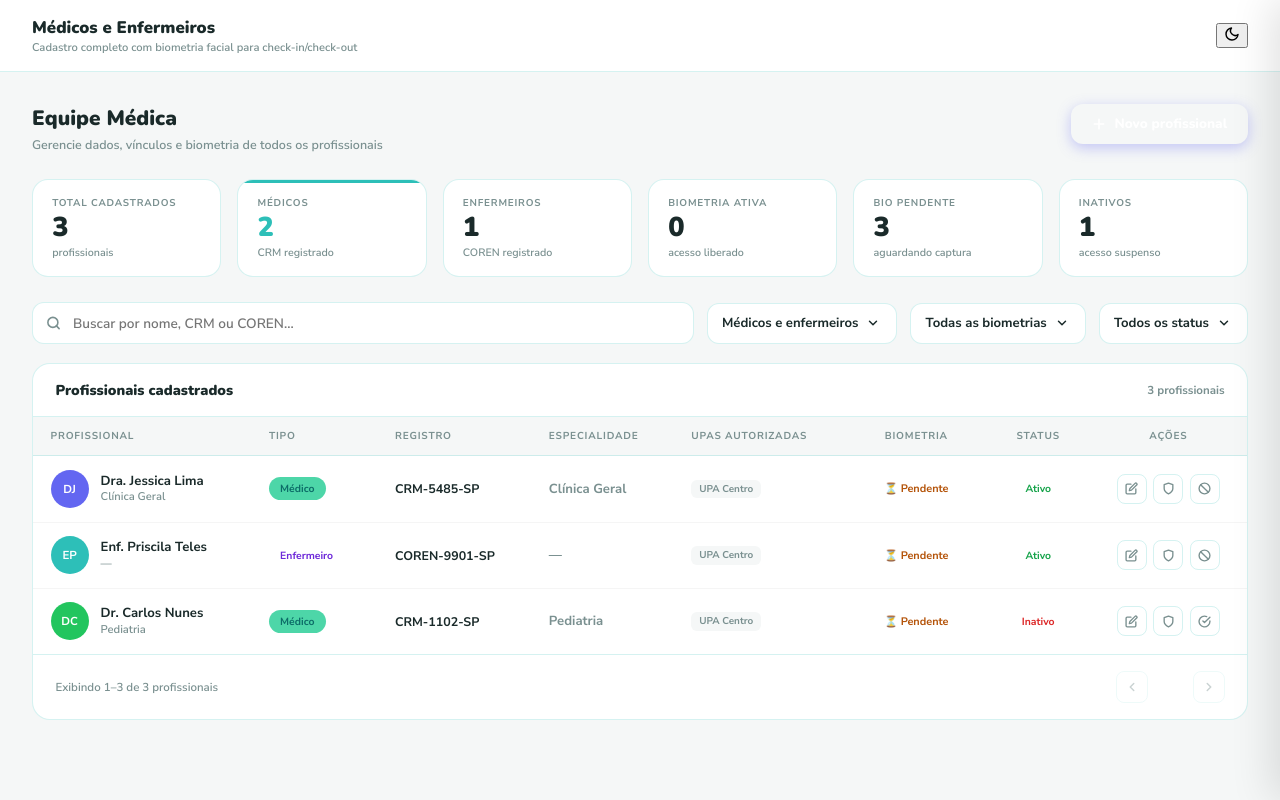
Test: <AdminMedicos /> › busca por nome funciona
Expected: the text "Dra. Jessica Lima" is shown, [101,474,204,489]
In the field with placeholder "Buscar por nome, CRM ou COREN...": (363, 323) [32,302,694,344], type "Jessica"
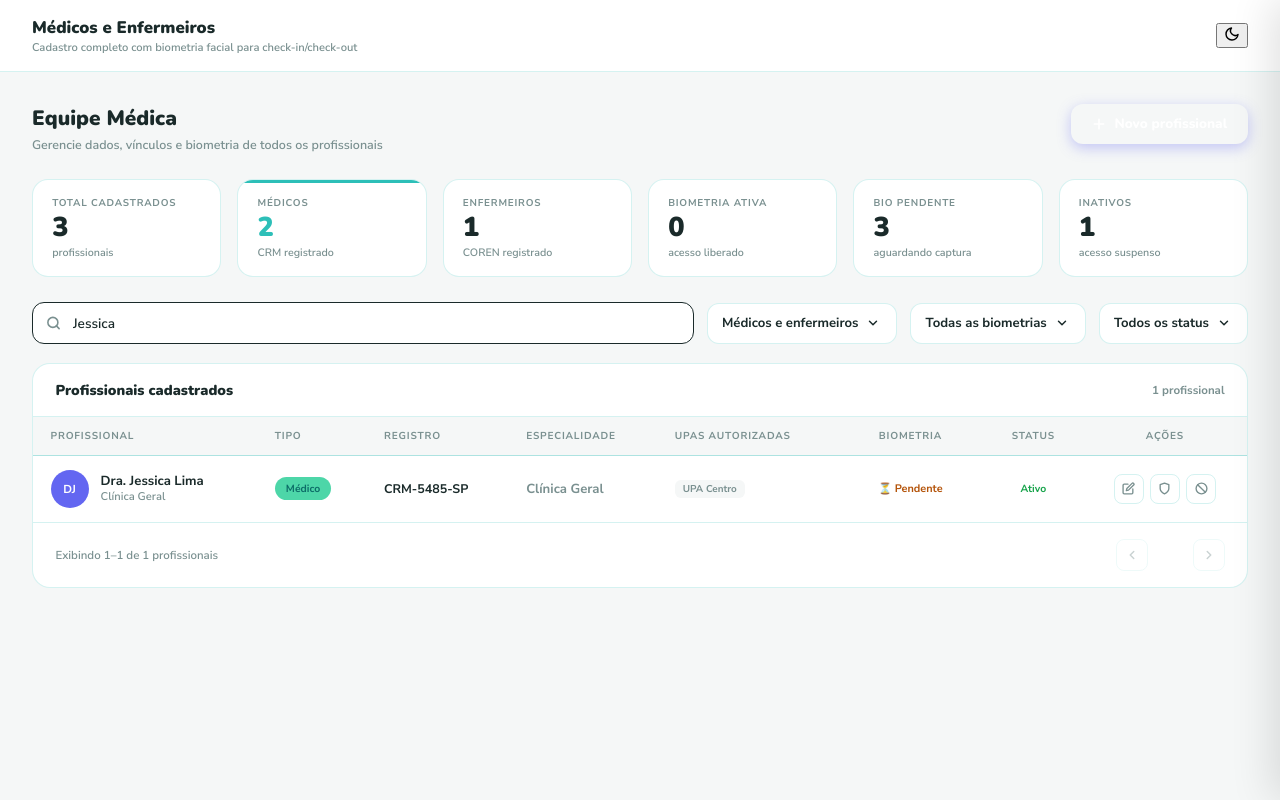
Expected: the text "Dra. Jessica Lima" is shown, [101,474,204,489]
Result: the text "Enf. Priscila Teles" is gone
